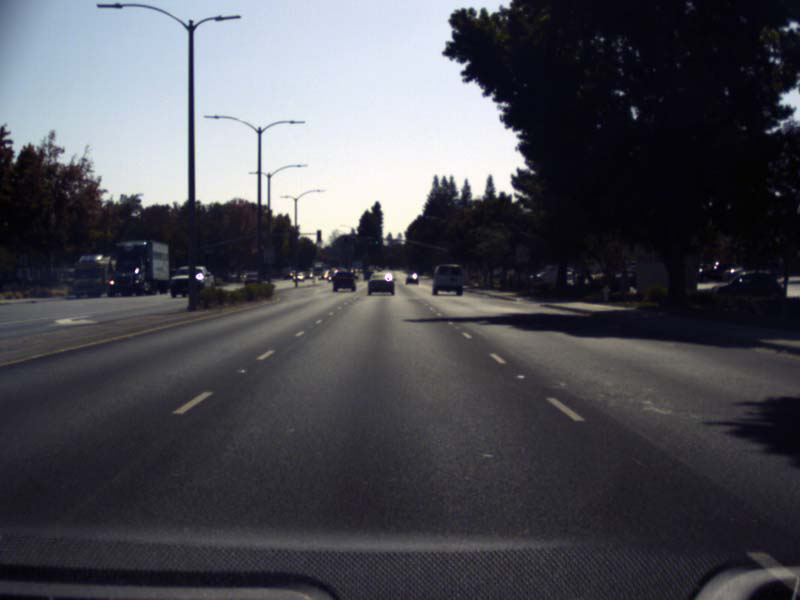Green: (373, 239, 379, 245)
